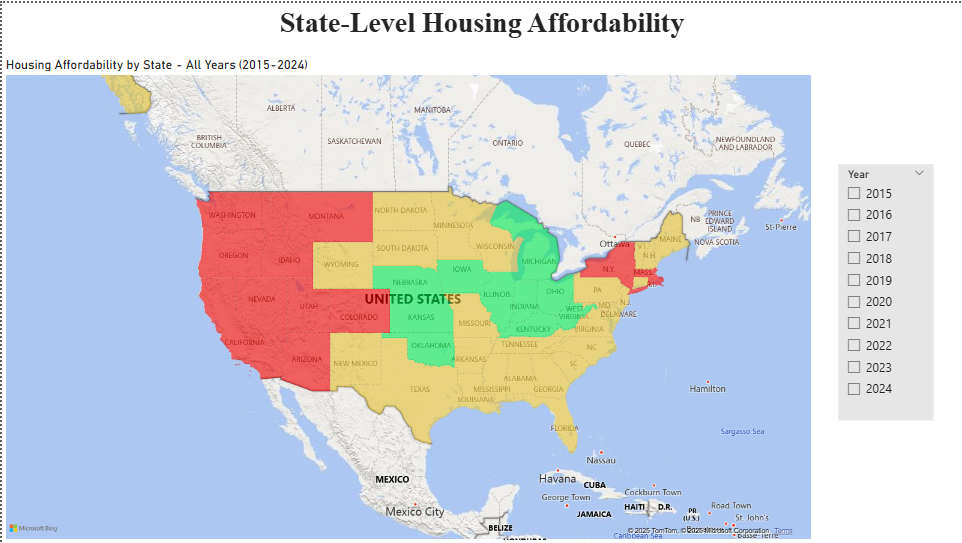

The page's visual inventory and layout, read from the dashboard file:
{"tool":"powerbi","page":{"name":"State Map","canvas":[1280,720],"ordinal":1},"visuals":[{"type":"filledMap","fields":{"Category":["housing_analysis affordability.state"]},"box":[0,71.4,1084.3,648.6],"z":0},{"type":"slicer","fields":{"Values":["housing_analysis affordability.year"]},"box":[1115.7,215.7,127.1,341.4],"z":1000},{"type":"textbox","box":[0,0,1280,71.4],"z":2000}]}

Visuals, with their boxes in screenshot pixels (x1, y1, x2, y2), scaled from the page's 1280x720 canvas onto the 962x543 screenshot:
filledMap - housing_analysis affordability.state: <box>0,54,815,542</box>
slicer - housing_analysis affordability.year: <box>839,163,934,420</box>
textbox: <box>0,0,961,54</box>
